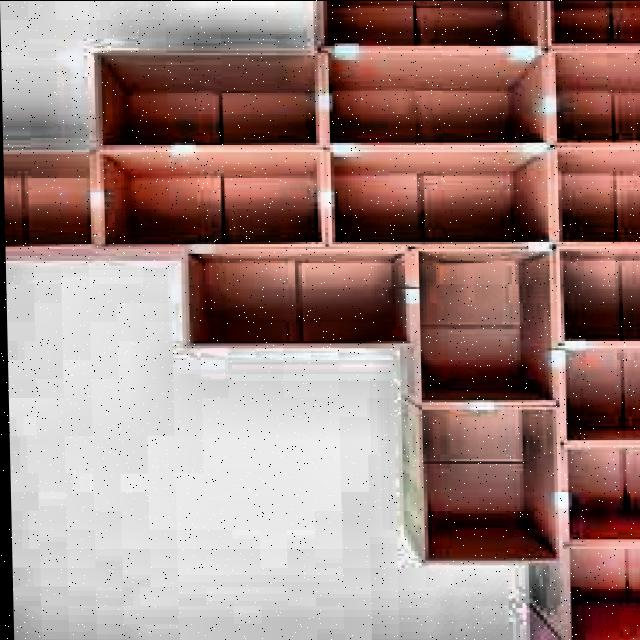cardboard: (400, 398, 557, 562), (95, 51, 325, 146), (101, 148, 327, 244), (327, 148, 545, 246), (322, 49, 540, 145), (191, 250, 406, 346), (410, 253, 531, 390), (552, 252, 640, 422), (316, 1, 540, 51), (3, 149, 97, 259), (550, 50, 640, 144), (560, 158, 640, 244), (415, 404, 531, 460), (567, 443, 640, 518), (124, 90, 219, 146), (393, 246, 427, 394), (568, 544, 640, 598), (182, 243, 415, 259), (571, 598, 640, 638), (5, 150, 93, 172), (4, 174, 26, 244)
